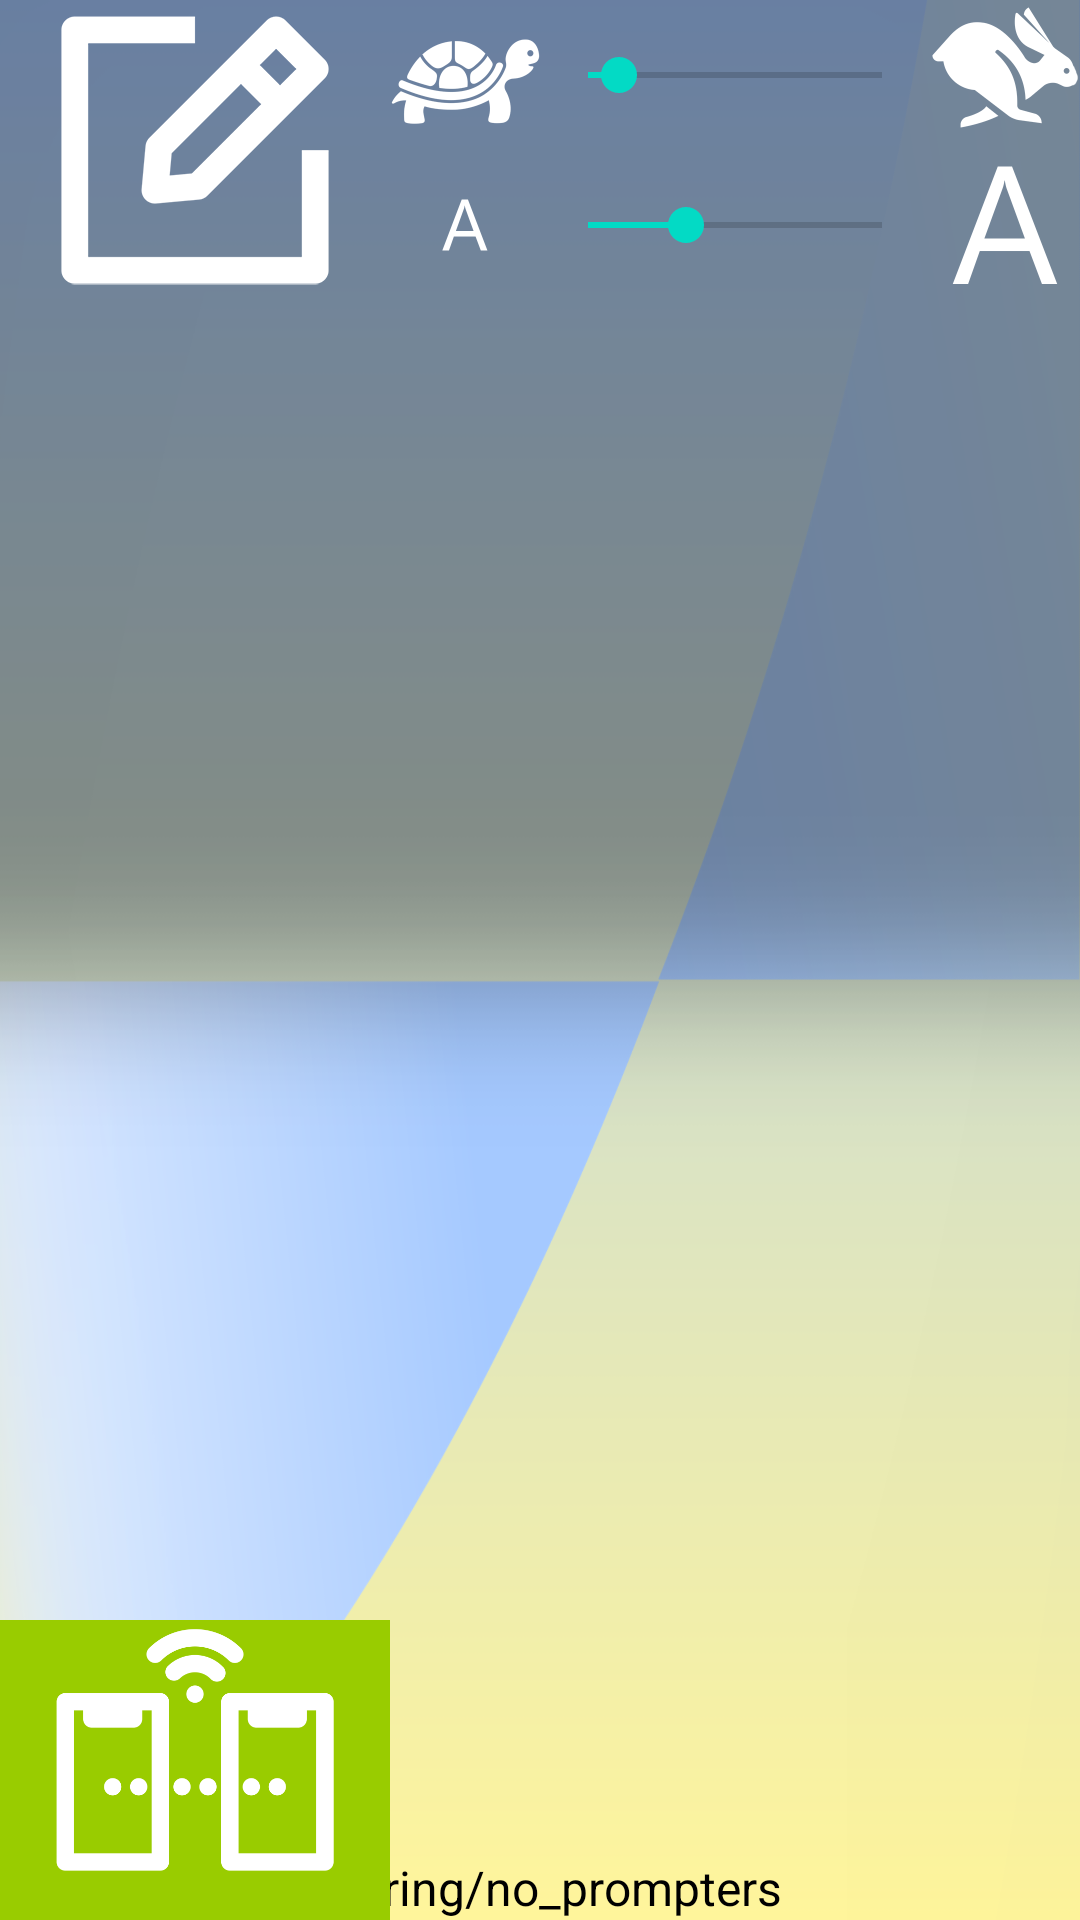

Screen size 1080px×1920px. Icon name, then its box in pixels as [x1,y1,x2,y2]:
edit: [61,16,329,285]
rabbit: [932,7,1078,128]
turtle: [392,39,539,124]
